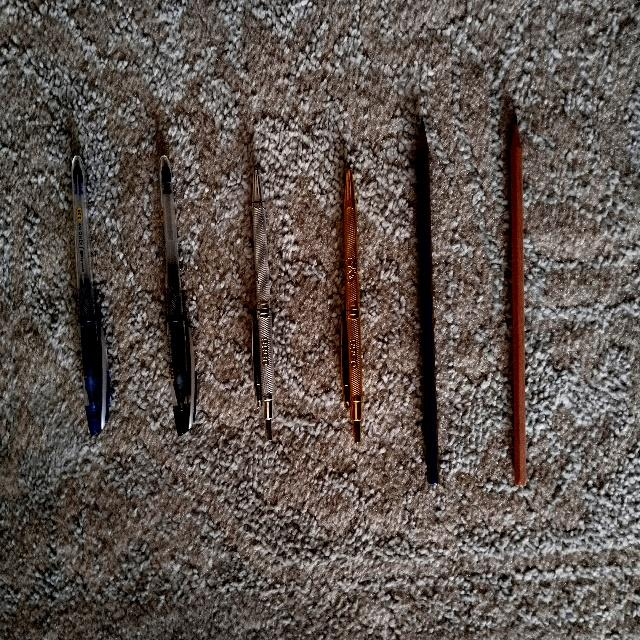pen: (72, 156, 109, 436), (160, 156, 196, 435)
pencil: (415, 122, 438, 484), (509, 117, 525, 485)
signature pen: (341, 169, 363, 441), (252, 170, 273, 438)
